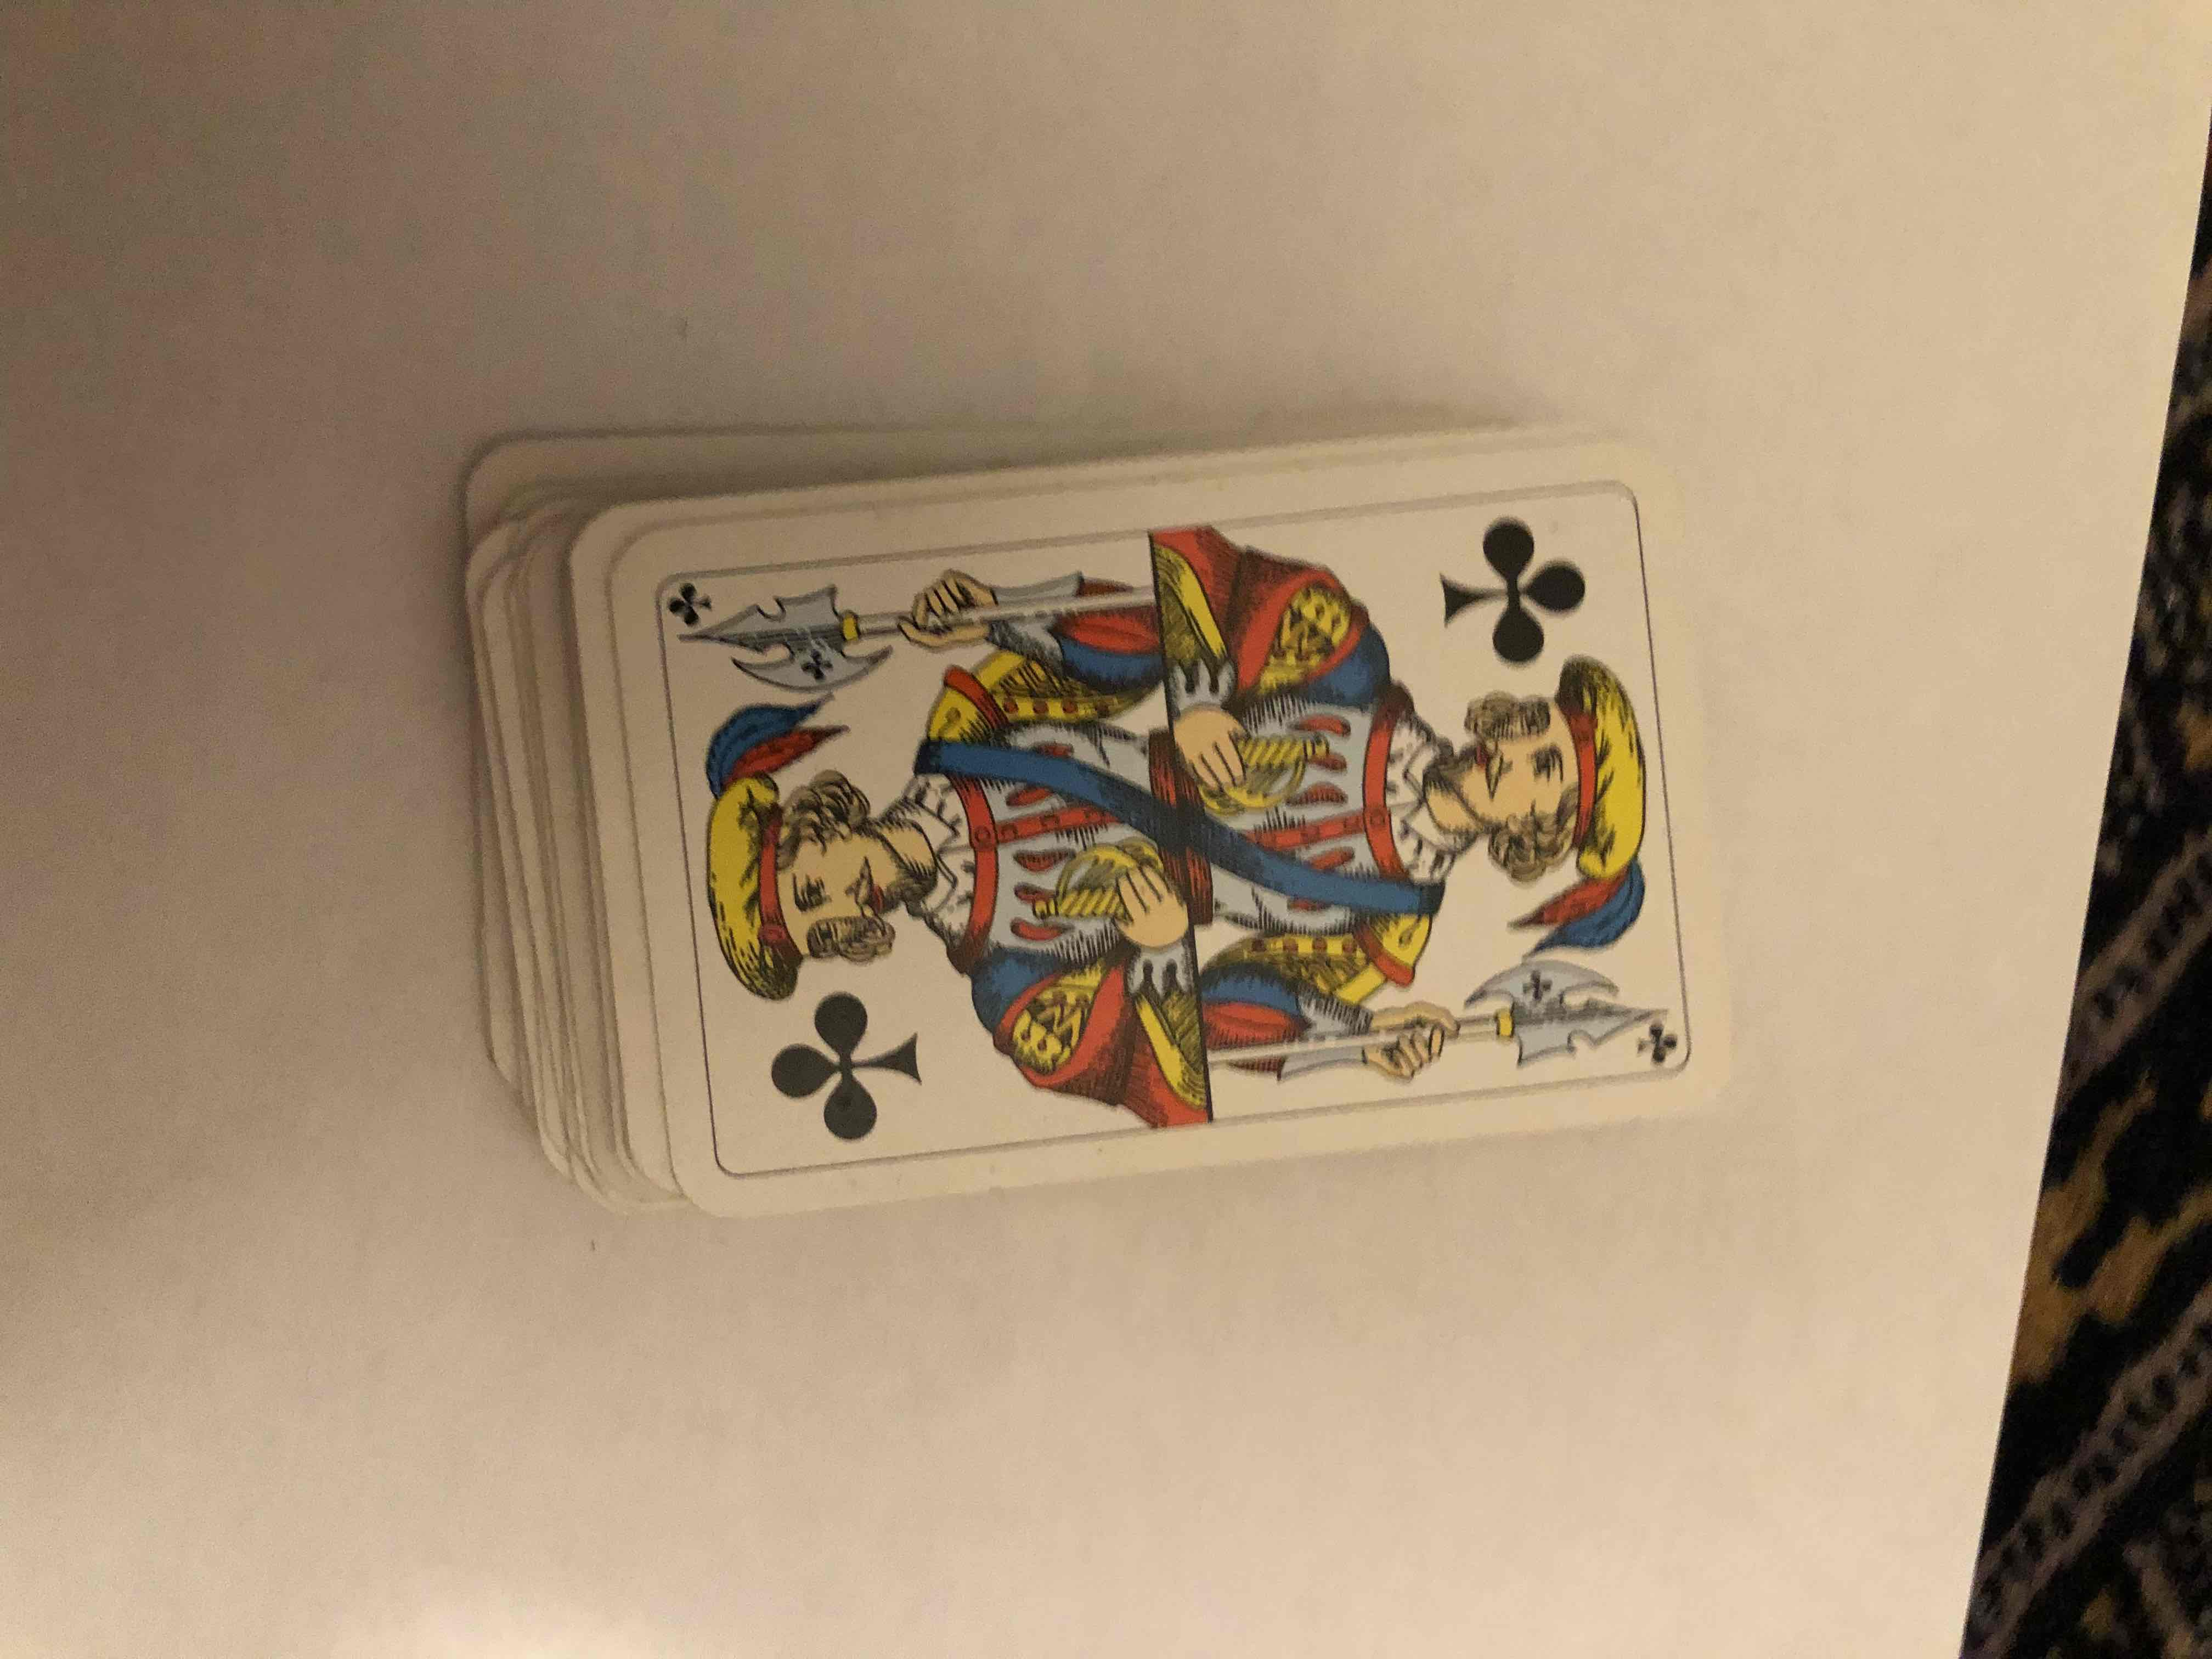clubsJack: (634, 272, 1731, 1368)
